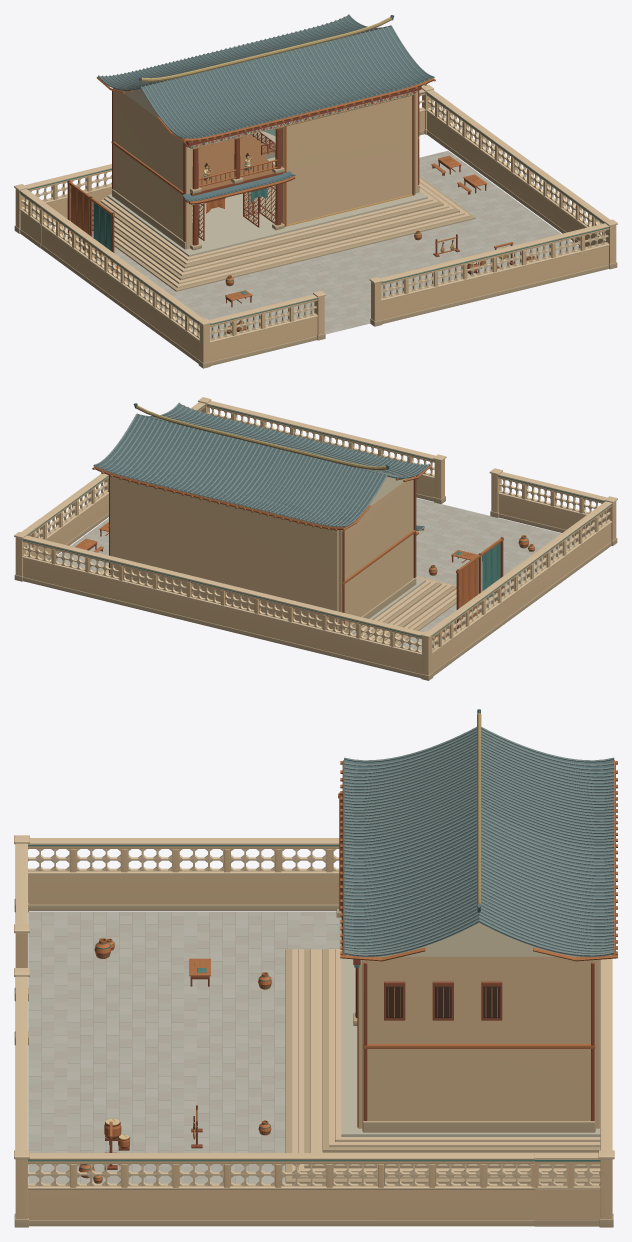
The model's file is music-pavilion.glb.
3 views of the same model, one above another, from view 1: azimuth 30°, elevation 25°; view 2: azimuth 150°, elevation 25°; view 3: azimuth 270°, elevation 25° (orthographic). The views are drawn at different scales.
Visible parts, largest first — view 1: architecture--plaster.001, court-paving--court-limestone-0, courtyard-enclosure--plaster.001, main-roof--tile.001, courtyard-enclosure--stone-light.001, main-roof--tile-edge.001, terraced-foundation--stone-light, terraced-foundation--music-decor-stone, terraced-foundation--stone, courtyard-enclosure--stone, music-interior-floor--music-decor-wood, porch--wood.001 (+17 smaller); view 2: architecture--plaster.001, courtyard-enclosure--plaster.001, courtyard-enclosure--stone-light.001, main-roof--tile.001, main-roof--tile-edge.001, court-paving--court-limestone-0, courtyard-enclosure--stone, terraced-foundation--stone-light, courtyard-enclosure--teal.001, main-roof--wood-light.001, main-roof--music-decor-ochre, terraced-foundation--stone (+5 smaller); view 3: court-paving--court-limestone-0, main-roof--tile-edge.001, architecture--plaster.001, courtyard-enclosure--plaster.001, main-roof--tile.001, courtyard-enclosure--stone-light.001, terraced-foundation--stone-light, terraced-foundation--stone, courtyard-enclosure--stone, court-paving--court-fine-joints, terraced-foundation--music-decor-stone, mural-frame--stone.001 (+9 smaller).
Boxes of the visible parts, x1,y1,x2,y2 form: architecture--plaster.001: [113, 88, 417, 249]; court-paving--court-limestone-0: [93, 151, 578, 338]; courtyard-enclosure--plaster.001: [15, 92, 616, 363]; main-roof--tile.001: [99, 15, 432, 138]; courtyard-enclosure--stone-light.001: [14, 84, 617, 343]; main-roof--tile-edge.001: [98, 14, 434, 139]; terraced-foundation--stone-light: [92, 178, 470, 287]; terraced-foundation--music-decor-stone: [107, 157, 427, 256]; terraced-foundation--stone: [92, 176, 475, 291]; courtyard-enclosure--stone: [14, 129, 617, 368]; music-interior-floor--music-decor-wood: [192, 134, 275, 190]; porch--wood.001: [190, 128, 282, 245]; architecture--plaster.001: [110, 476, 415, 631]; courtyard-enclosure--plaster.001: [15, 404, 616, 675]; courtyard-enclosure--stone-light.001: [14, 397, 617, 655]; main-roof--tile.001: [95, 403, 429, 526]; main-roof--tile-edge.001: [93, 402, 430, 527]; court-paving--court-limestone-0: [57, 498, 575, 650]; courtyard-enclosure--stone: [14, 493, 617, 680]; terraced-foundation--stone-light: [100, 566, 459, 643]; courtyard-enclosure--teal.001: [22, 404, 612, 637]; main-roof--wood-light.001: [92, 404, 431, 530]; main-roof--music-decor-ochre: [136, 405, 386, 470]; terraced-foundation--stone: [99, 564, 459, 645]; court-paving--court-limestone-0: [28, 912, 341, 1183]; main-roof--tile-edge.001: [344, 727, 614, 955]; architecture--plaster.001: [358, 956, 599, 1131]; courtyard-enclosure--plaster.001: [15, 846, 612, 1219]; main-roof--tile.001: [344, 709, 613, 956]; courtyard-enclosure--stone-light.001: [14, 835, 614, 1189]; terraced-foundation--stone-light: [292, 949, 600, 1178]; terraced-foundation--stone: [285, 949, 600, 1183]; courtyard-enclosure--stone: [14, 898, 613, 1227]; court-paving--court-fine-joints: [28, 912, 339, 1183]; terraced-foundation--music-decor-stone: [341, 949, 600, 1136]; mural-frame--stone.001: [363, 1121, 595, 1132].
Size of the model in its own units: 46.98 by 17.83 by 37.27.
35 materials, 1 textured.
